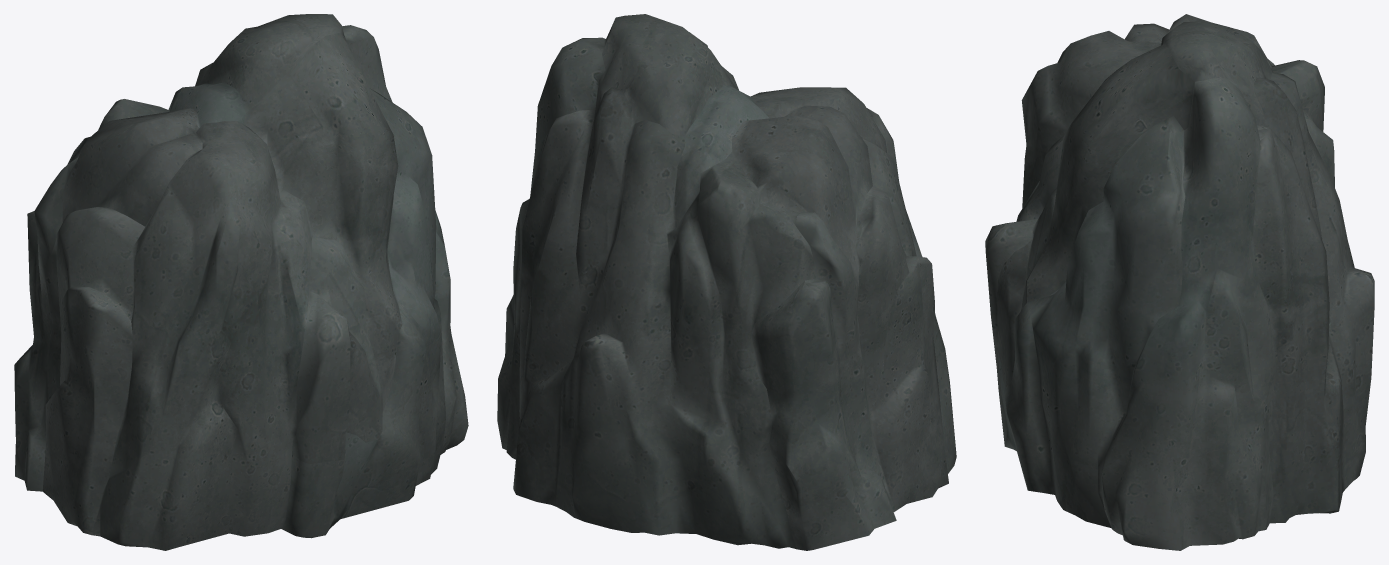
File: Cliff_Wall_Large02.fbx
3 views of the same model, side by side, from view 1: azimuth 30°, elevation 25°; view 2: azimuth 150°, elevation 25°; view 3: azimuth 270°, elevation 25° (orthographic). The views are drawn at different scales.
Visible parts, largest first — view 1: SM_CliffWall_Large02.mo; view 2: SM_CliffWall_Large02.mo; view 3: SM_CliffWall_Large02.mo.
Part boxes in pixels (bbox=[...]): SM_CliffWall_Large02.mo: bbox=[14, 14, 468, 550]; SM_CliffWall_Large02.mo: bbox=[497, 14, 956, 550]; SM_CliffWall_Large02.mo: bbox=[985, 14, 1374, 550].
Bounding box in the file's own units: 2077 × 2163 × 1704.
1 material, 1 textured.
